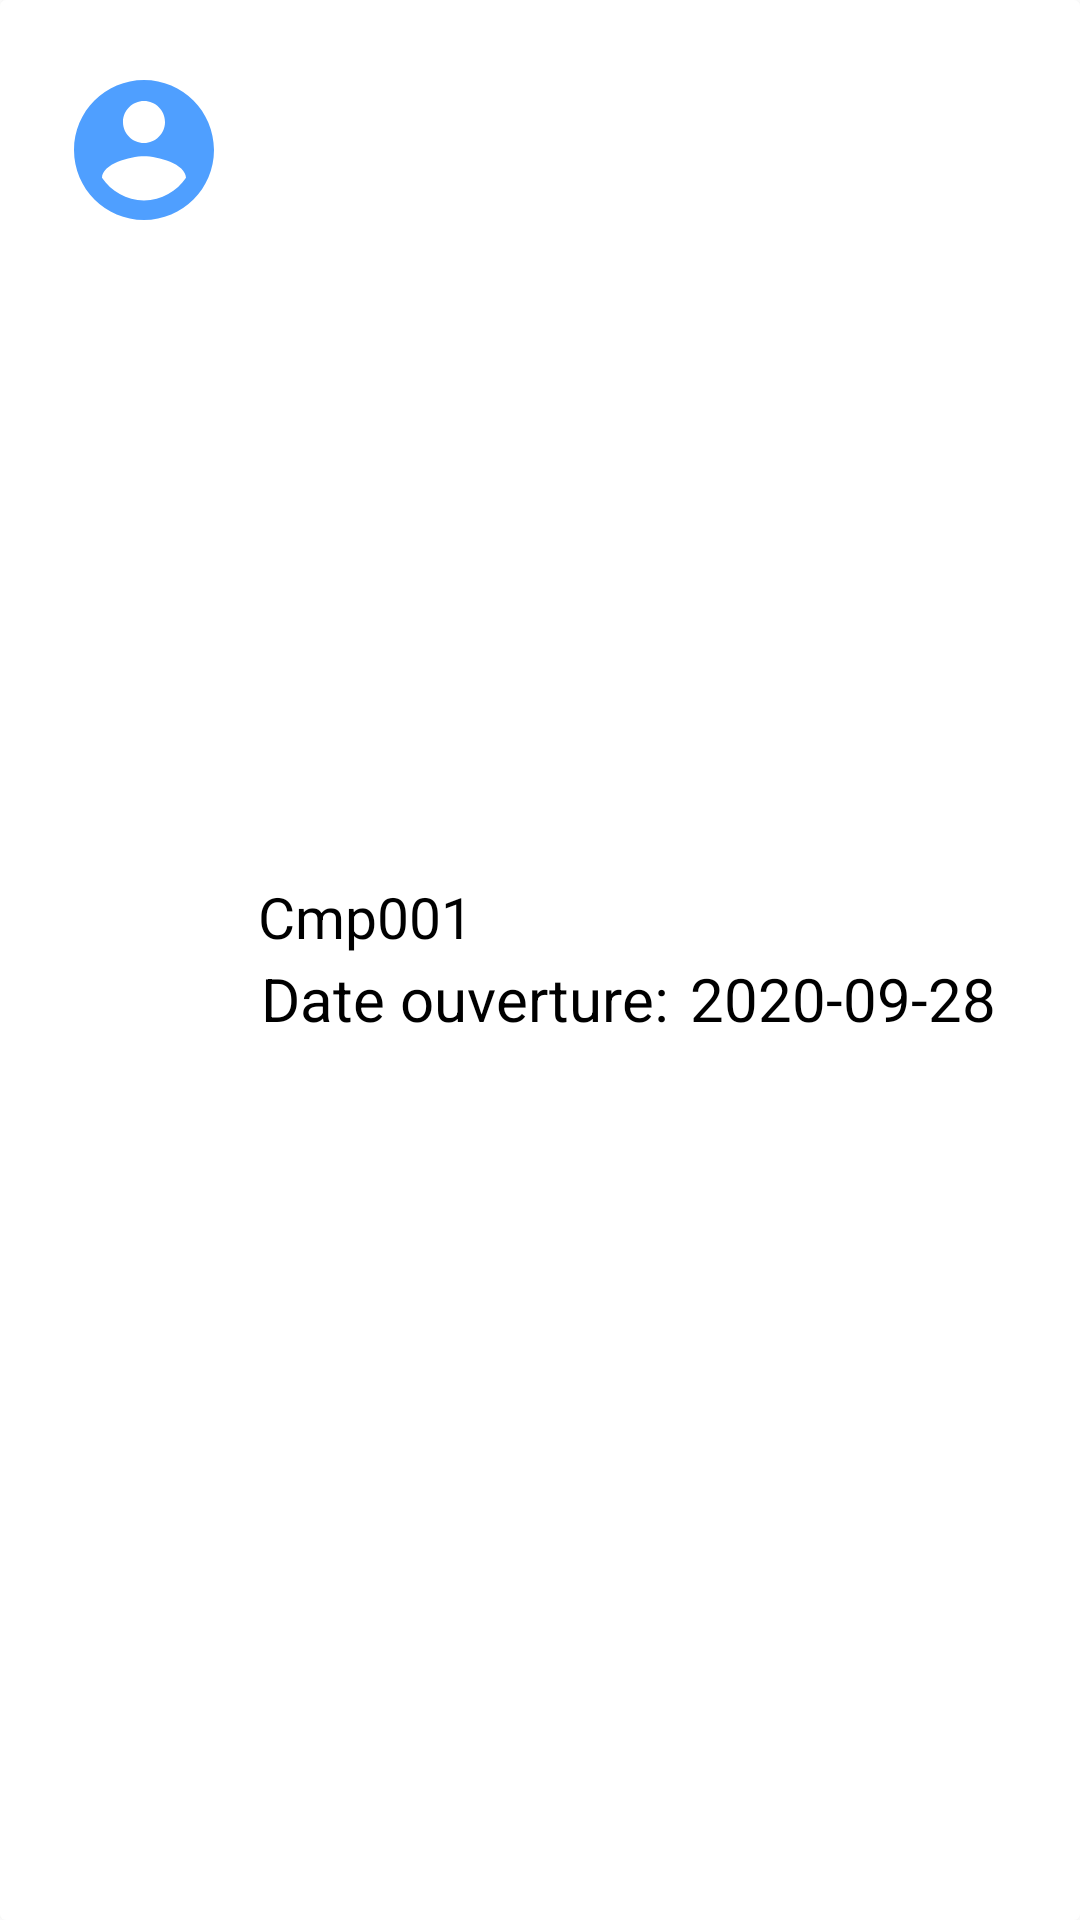

Icons on this 1080w x 1920h Android screen, each with its box as detection(x1, y1, x2, y2):
account circle: detection(74, 80, 214, 220)
